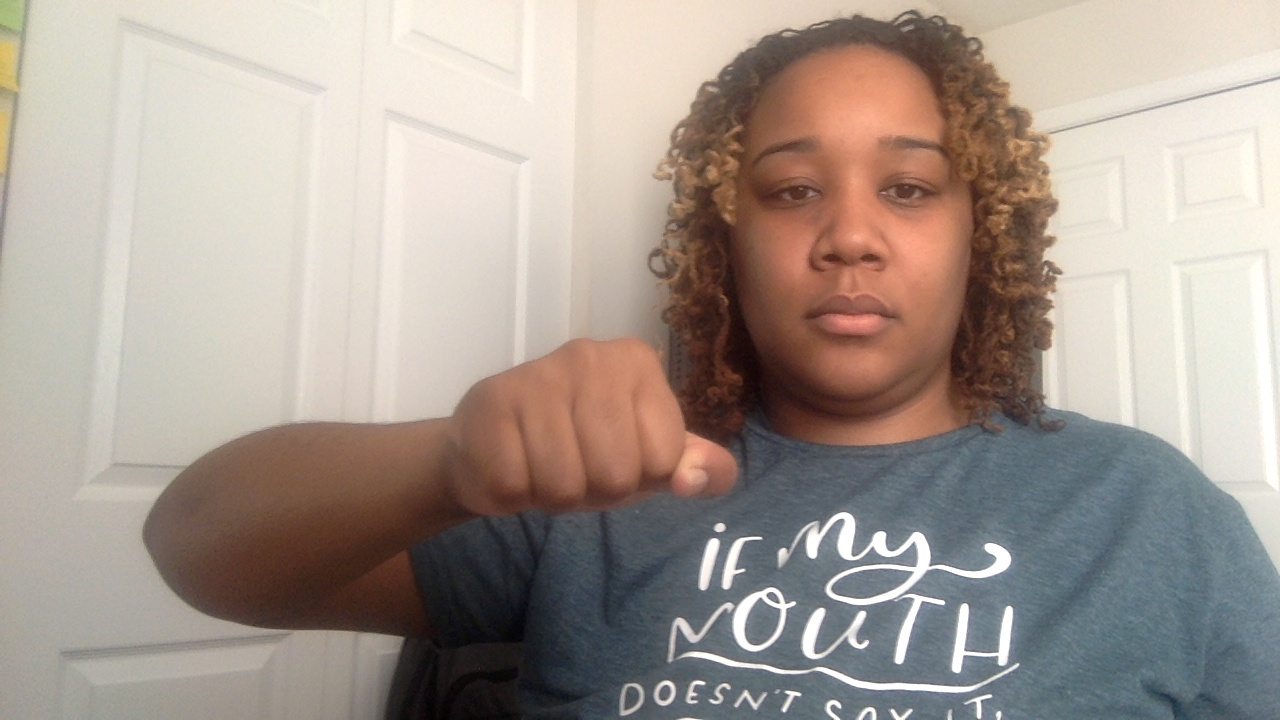yes: (412, 307, 785, 617)
